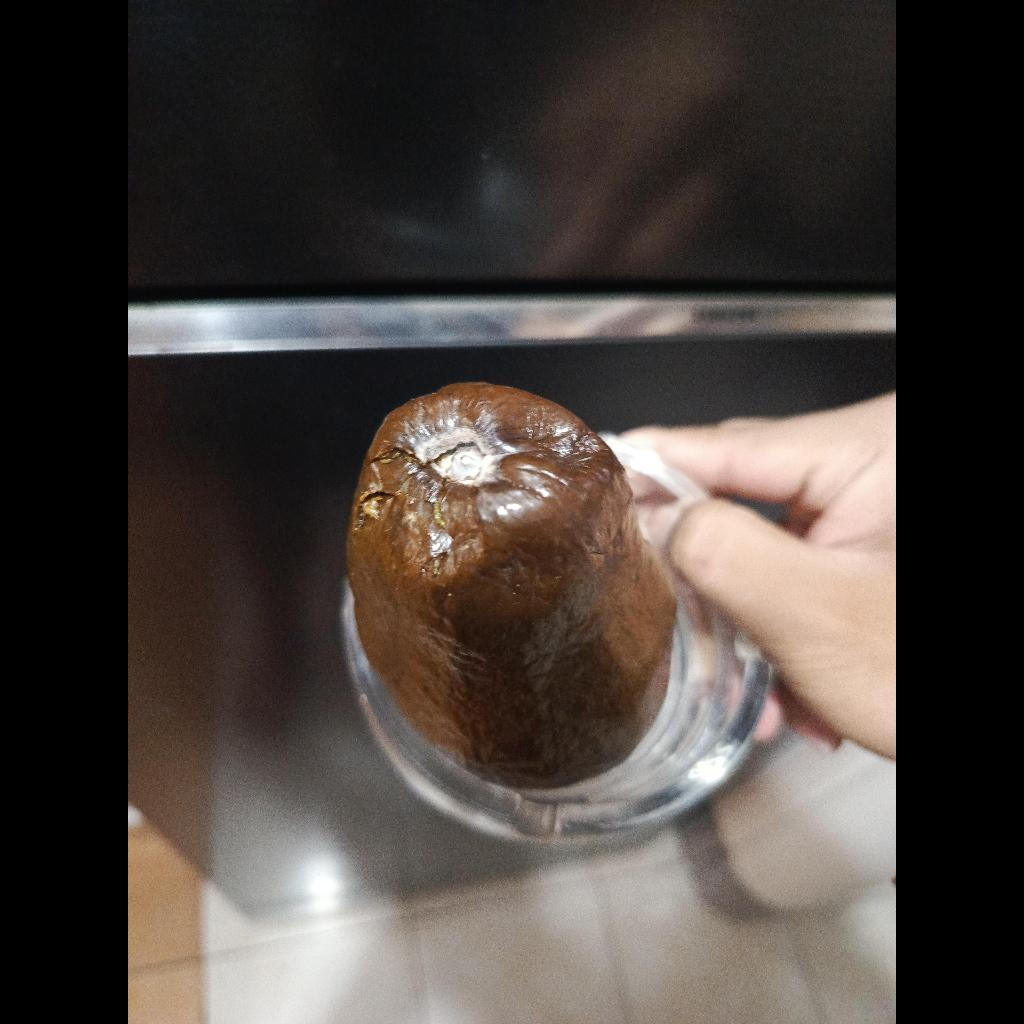pudricion_peduncular: (347, 383, 676, 788)
